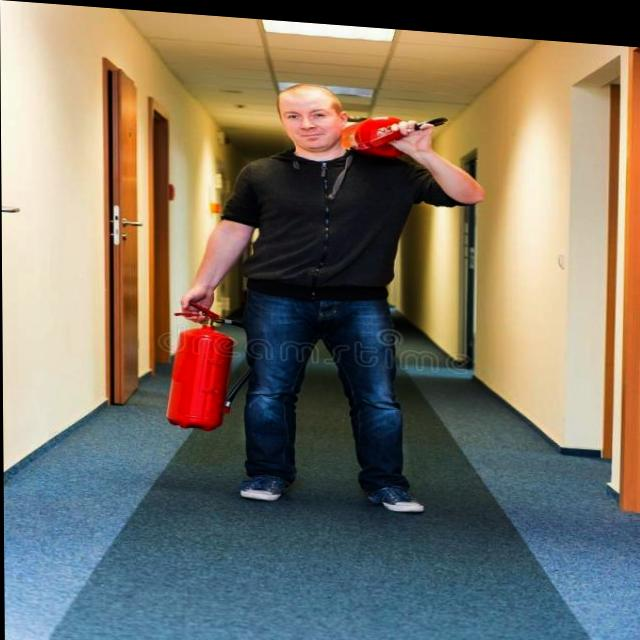FireExtinguisher: (149, 292, 268, 436), (333, 91, 453, 161)
